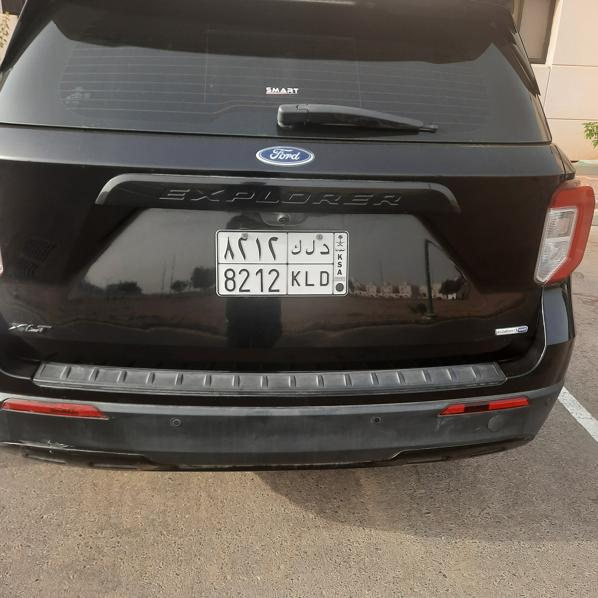numberplate: (217, 231, 346, 295)
